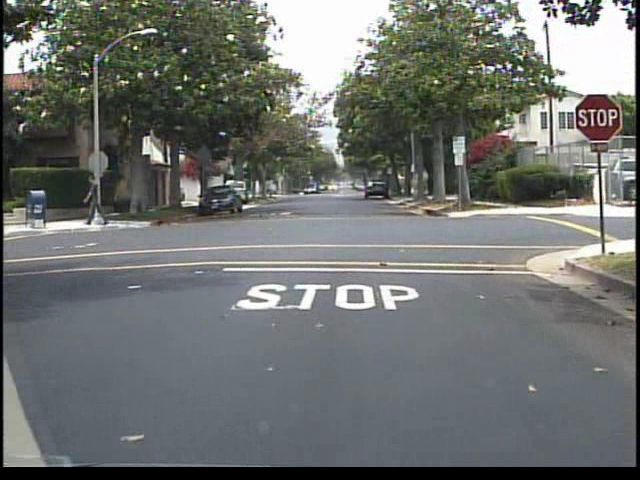person: (82, 168, 111, 231)
